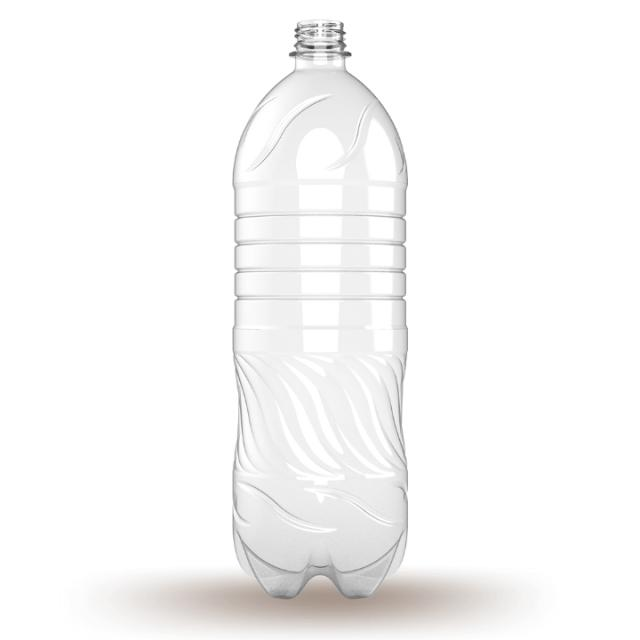bottom: (221, 504, 423, 602)
no_cap: (276, 13, 360, 80)
